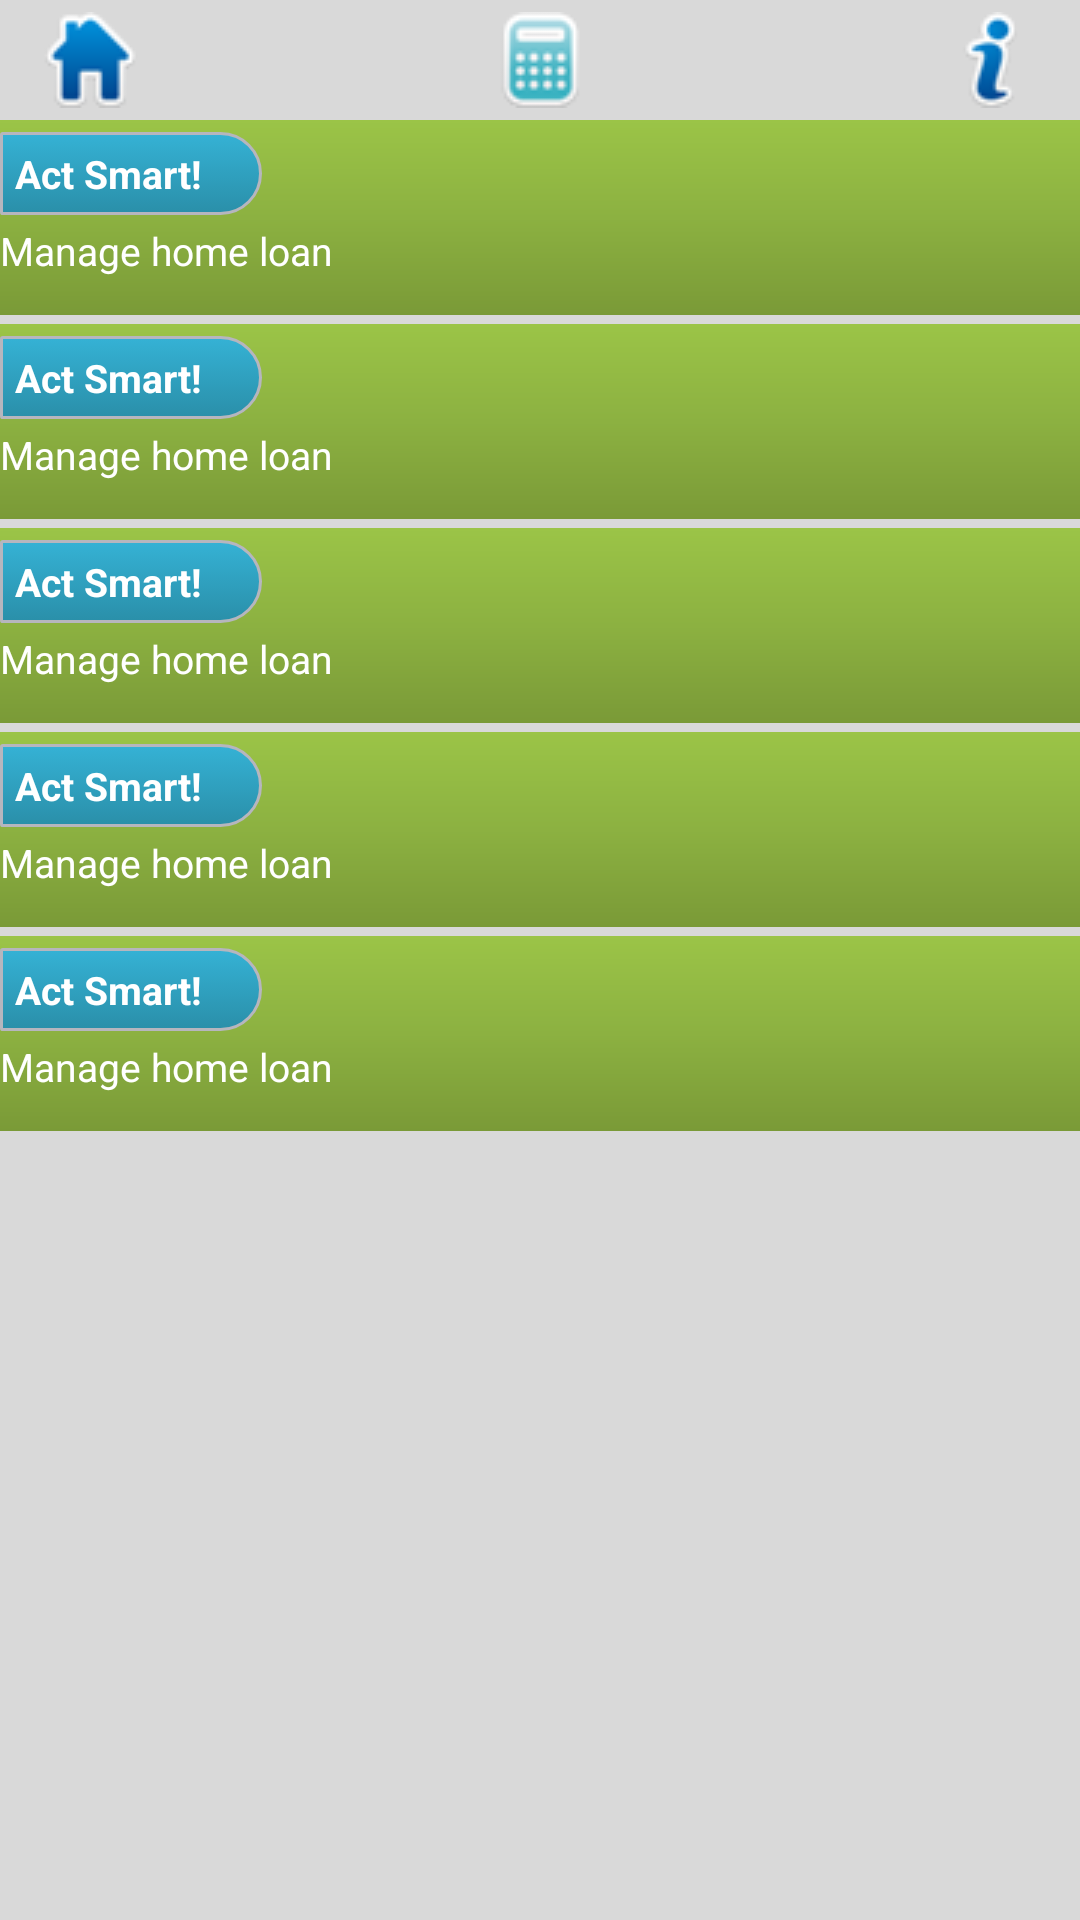

Icon bounding boxes for this 1080 × 1920 phone screenshot, format (x1, y1, x2, y2):
calculator: (505, 14, 576, 104)
info: (968, 14, 1014, 104)
